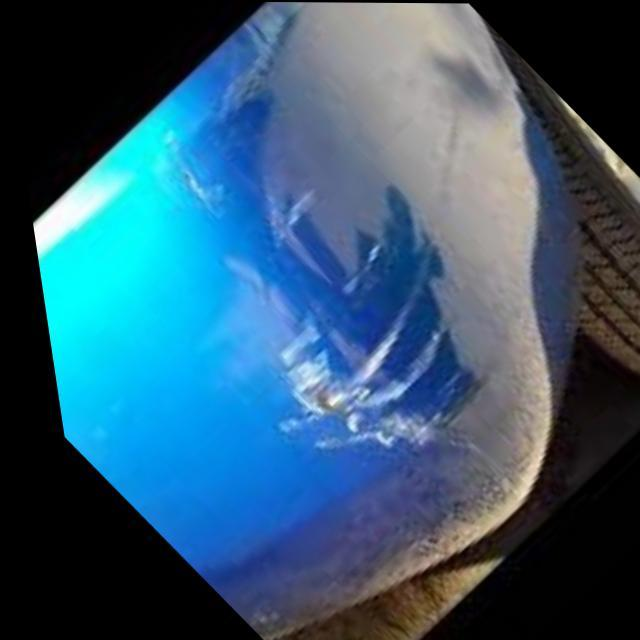rub: (254, 225, 453, 460)
